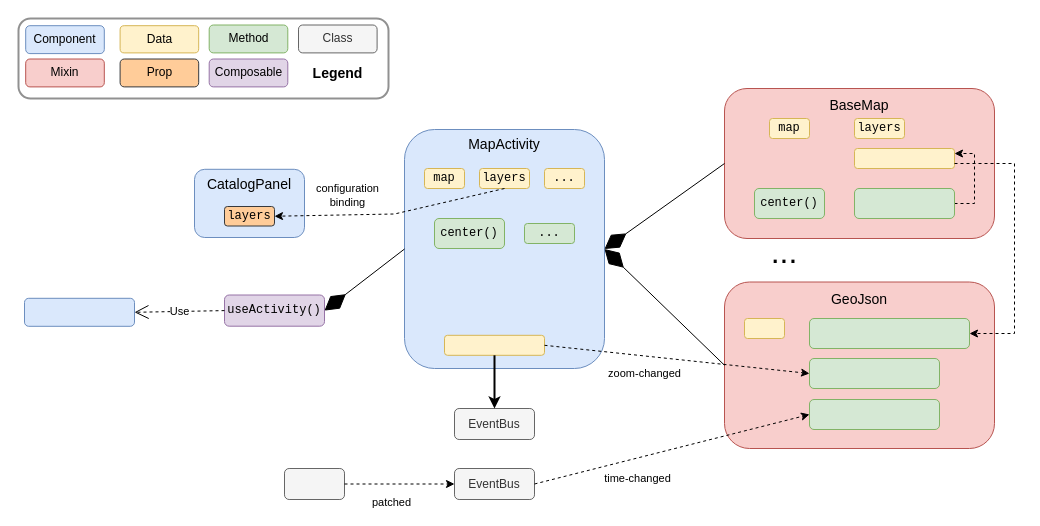
Image size: 1040x526. Some labels were removed from this diagram. Here are the shapes that lost their labels. From the top down, the centre of each, then its label:
point (904, 158): layersFactory
point (904, 203): createLayer()
point (79, 311): PositionIndicator
point (764, 328): cache
point (494, 344): engineEvents
point (889, 333): createGeoJsonLayer()
point (874, 373): onZoomChanged()
point (874, 414): onTimeChanged()
point (314, 484): Store
